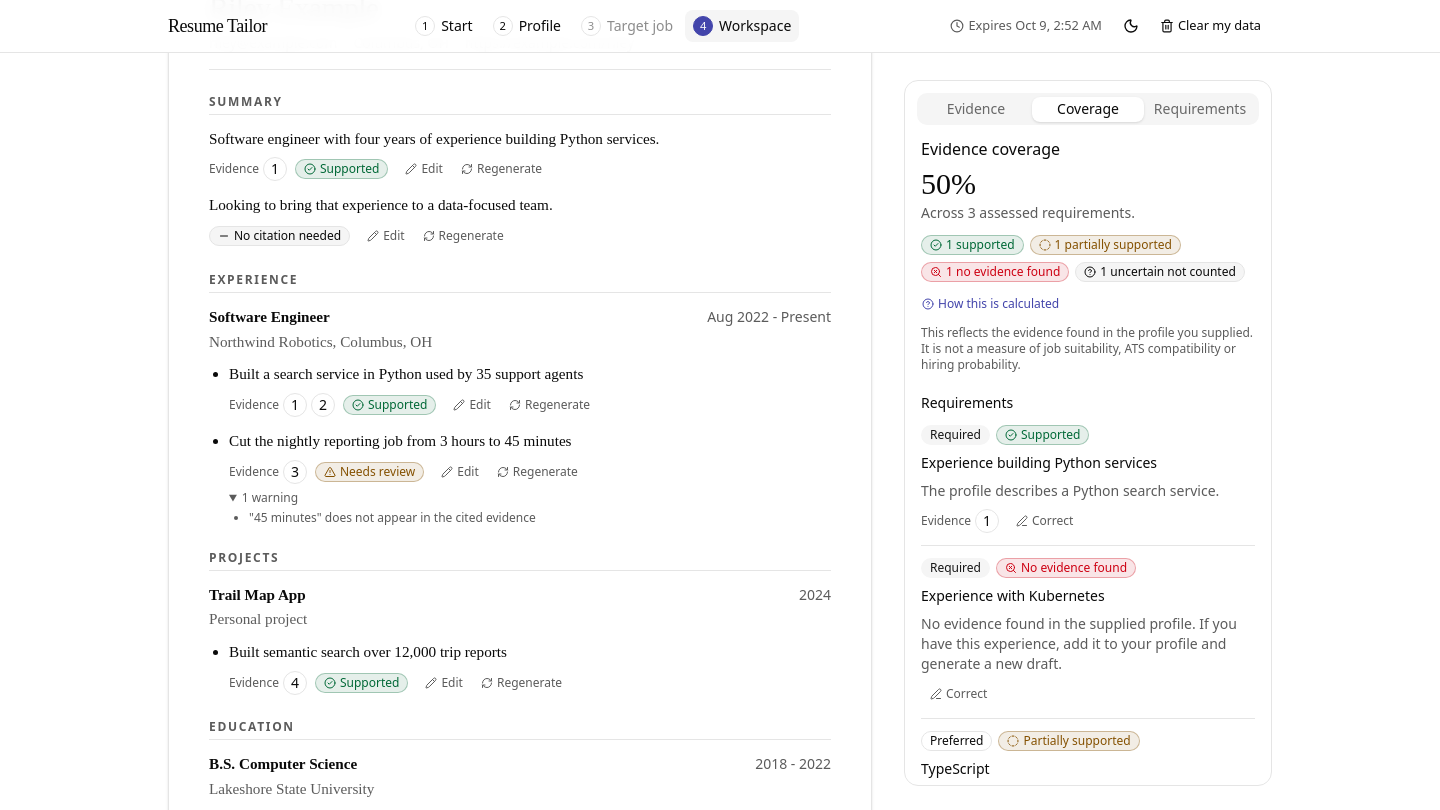
Test: Workspace evidence panel (two panes) › opens the exact excerpt, its source, its role and its provenance from a badge
(page scrolled)
Click the button named "Show evidence 2 for this statement" at (323, 405), box x1=311 y1=393 x2=335 y2=417
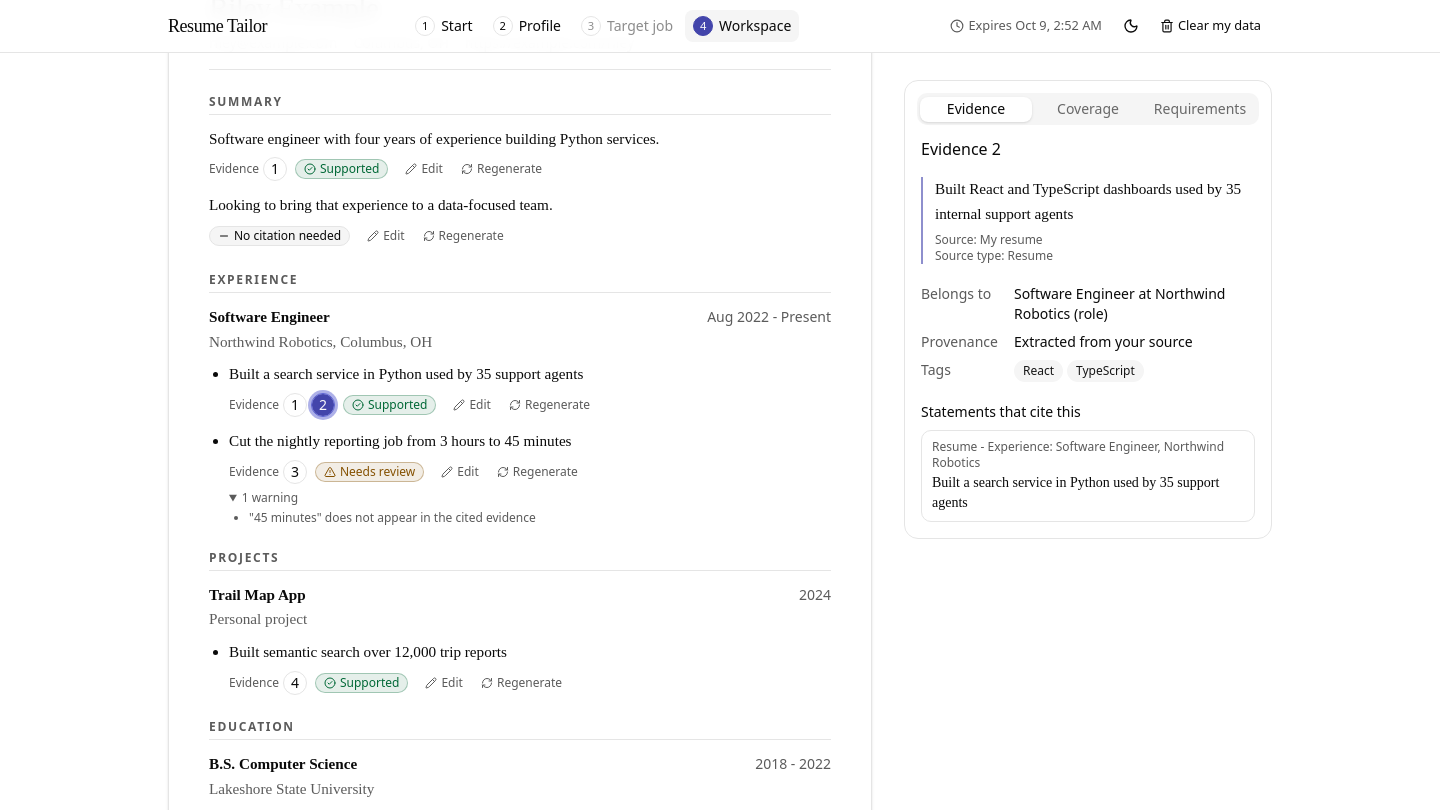
Check: the text "Built React and TypeScript dashboards used by 35 internal support agents" is shown, box x1=935 y1=177 x2=1255 y2=226
Check: the heading "Evidence 2" is shown, box x1=921 y1=138 x2=1001 y2=160
Check: the text "Source: My resume" is shown, box x1=935 y1=231 x2=1043 y2=248
